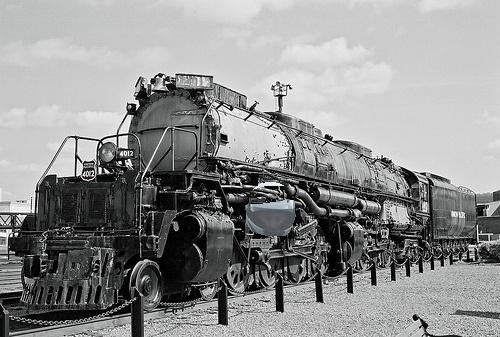tampered: (246, 183, 295, 238)
